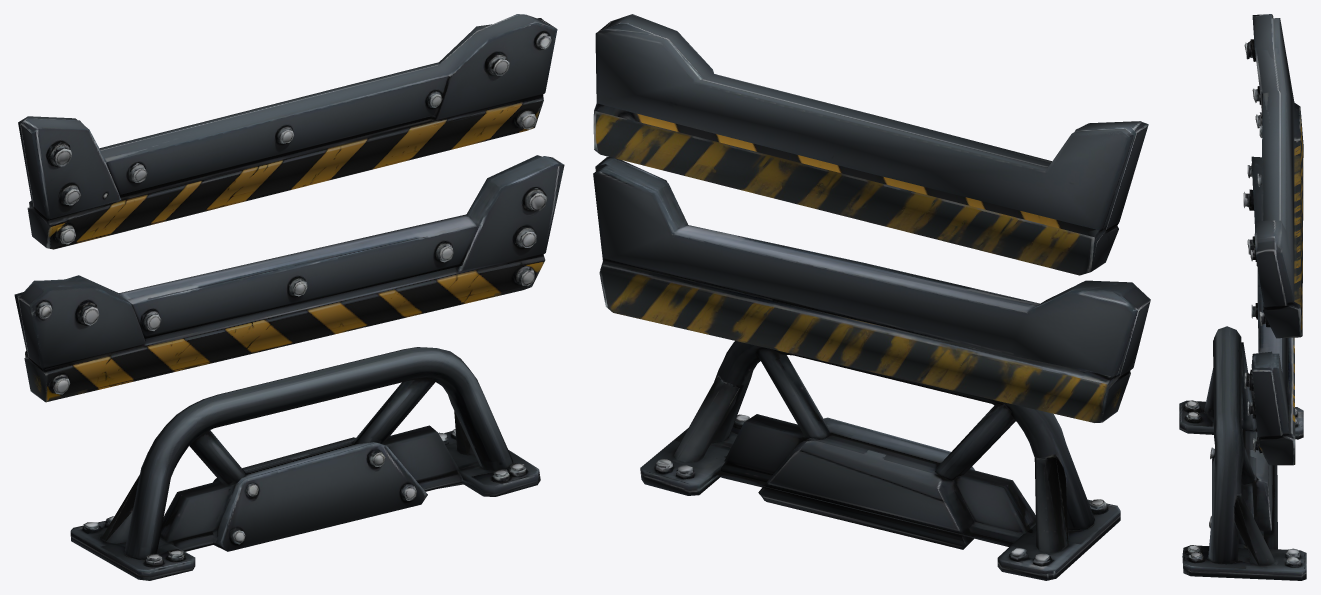
Rendered from blitz-reinforced_frame.glb.
3 views of the same model, side by side, from view 1: azimuth 30°, elevation 25°; view 2: azimuth 150°, elevation 25°; view 3: azimuth 270°, elevation 25° (orthographic). The views are drawn at different scales.
Parts seen in each view (by area): view 1: tripo_node_3e6008e7-c762-4bcb-9b33-e23c06afb00c; view 2: tripo_node_3e6008e7-c762-4bcb-9b33-e23c06afb00c; view 3: tripo_node_3e6008e7-c762-4bcb-9b33-e23c06afb00c.
Part boxes in pixels (bbox=[...]): tripo_node_3e6008e7-c762-4bcb-9b33-e23c06afb00c: bbox=[14, 14, 564, 580]; tripo_node_3e6008e7-c762-4bcb-9b33-e23c06afb00c: bbox=[593, 14, 1150, 580]; tripo_node_3e6008e7-c762-4bcb-9b33-e23c06afb00c: bbox=[1179, 14, 1306, 580].
Bounding box in the file's own units: 1.04 × 0.85 × 0.2548.
Materials: 1 (1 with a texture image).
